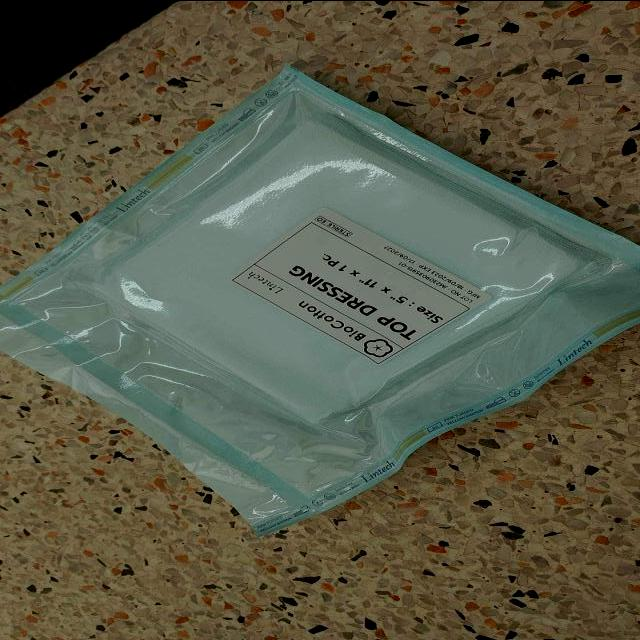General: (230, 206, 491, 366)
Infectious: (0, 63, 638, 537)
